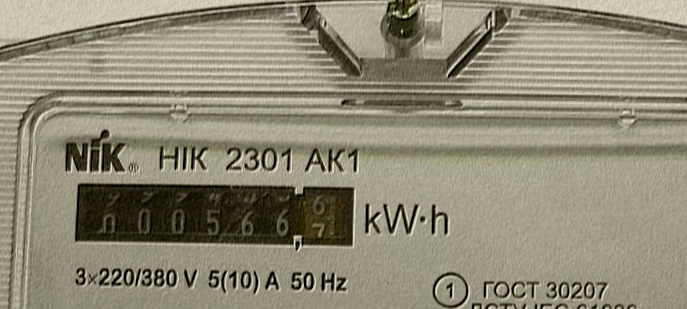0: (169, 208, 188, 237), (135, 206, 153, 235), (99, 211, 119, 234)
5: (204, 208, 223, 237)
6: (273, 207, 293, 238), (237, 209, 257, 237), (311, 194, 328, 219)
7: (310, 222, 326, 240)
9: (104, 189, 122, 209)
screen: (66, 176, 360, 256)
